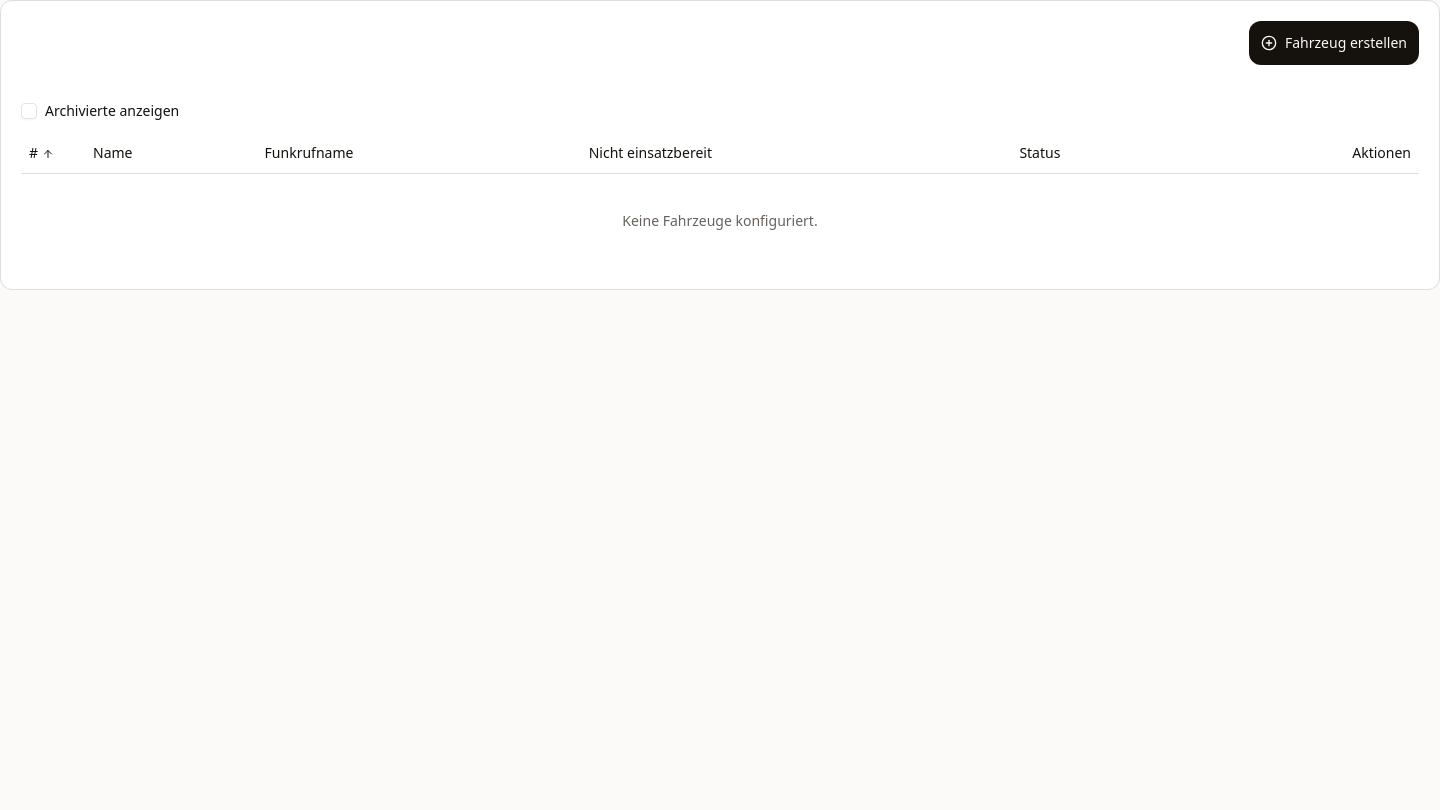
it: VehicleSettings › blocks submit and surfaces a zod error when name is empty
Click the button "Fahrzeug erstellen" at (1334, 43), box [1249,21,1419,65]
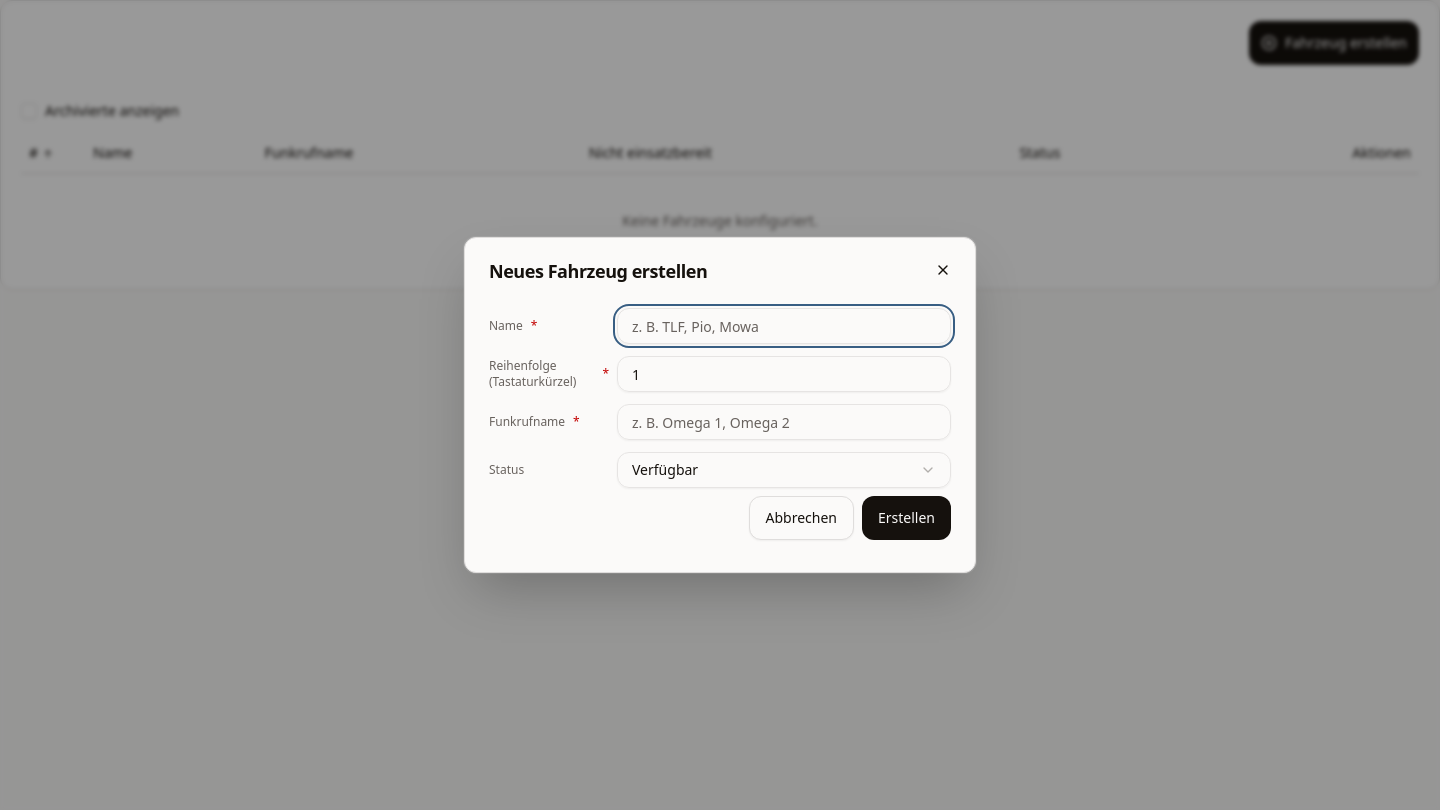
Type "Omega 1" into the field labelled "Funkrufname *" at (784, 422), box [617,404,951,440]
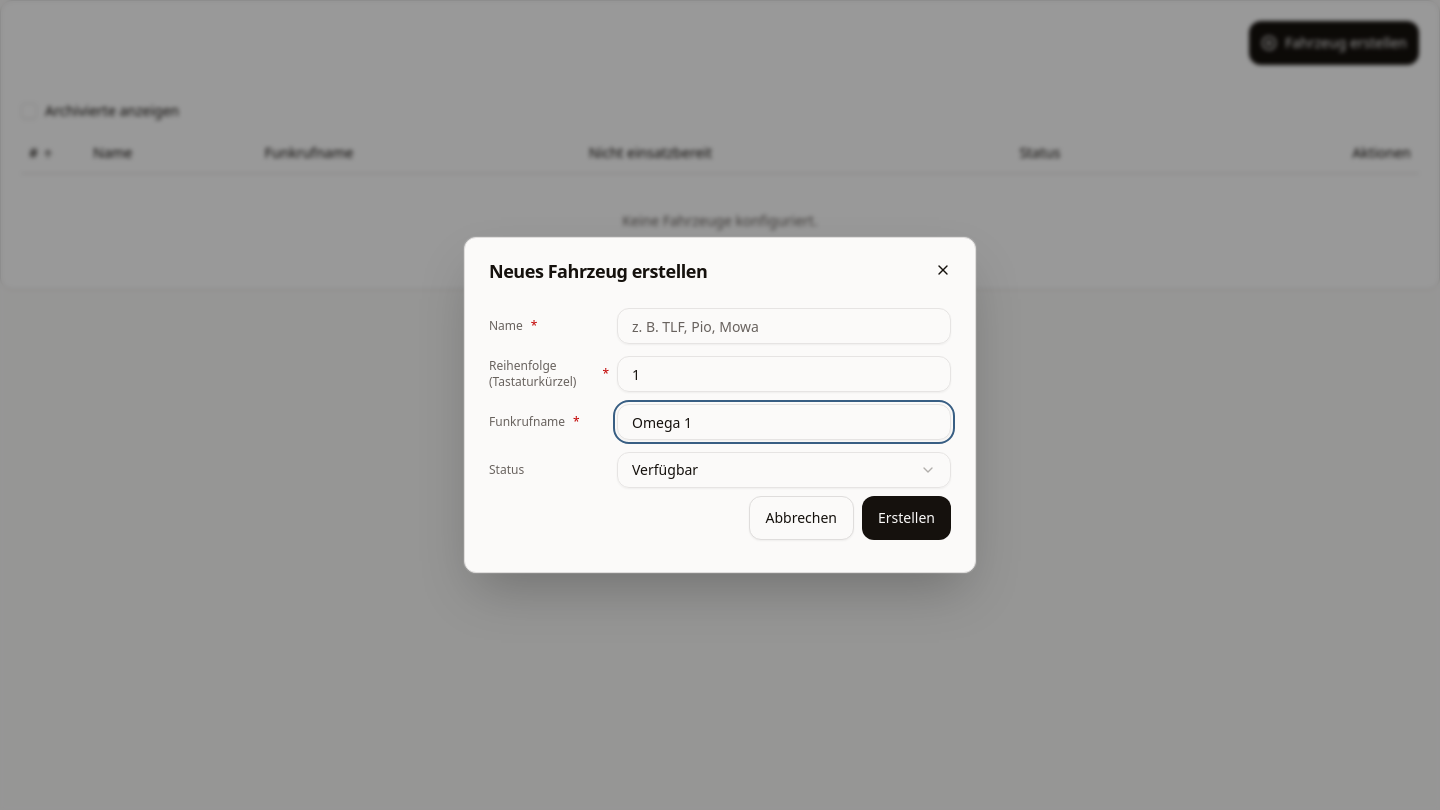
Click the button "Erstellen" at (906, 518), box [862,496,951,540]
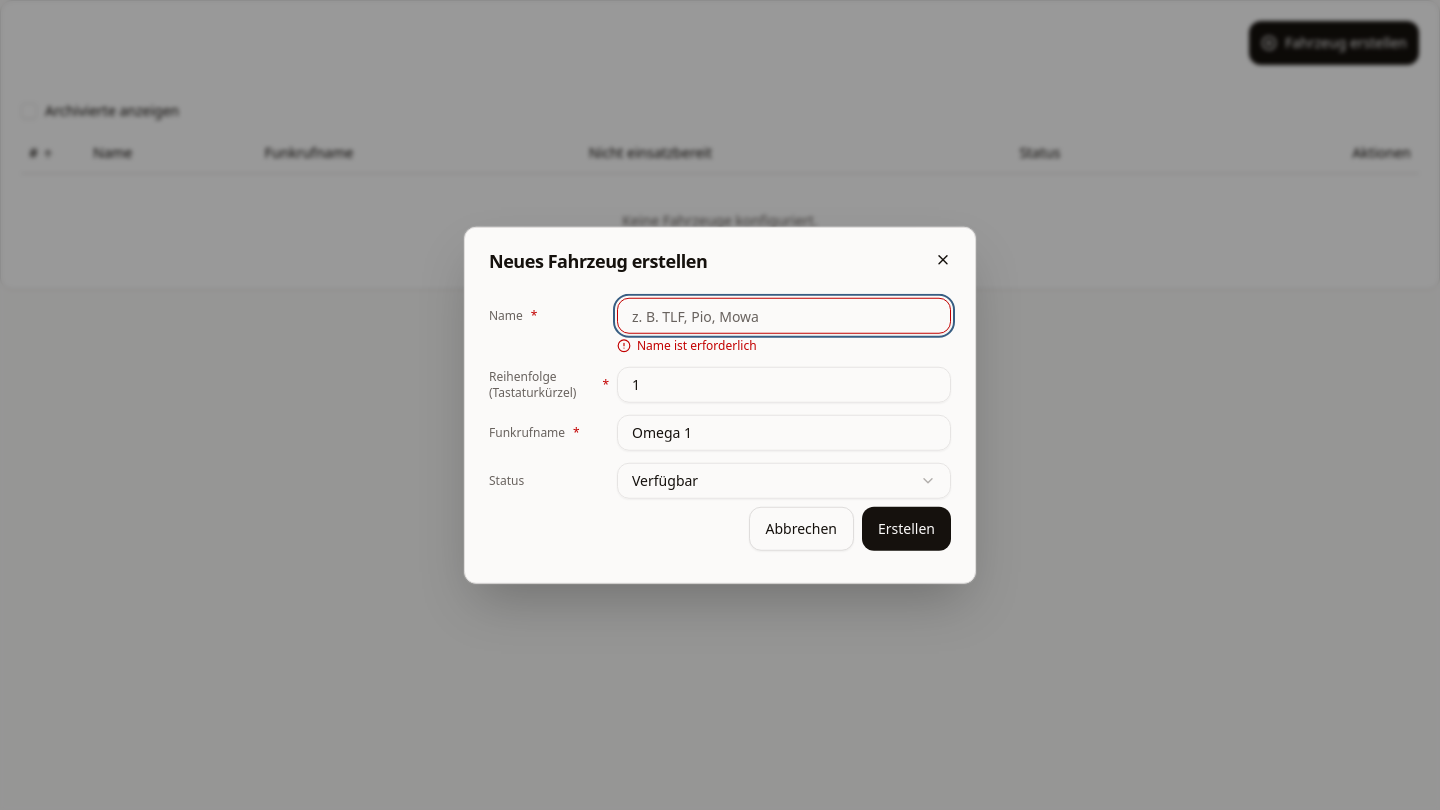
Now the text "Name ist erforderlich" is shown, box [637,338,757,354]
